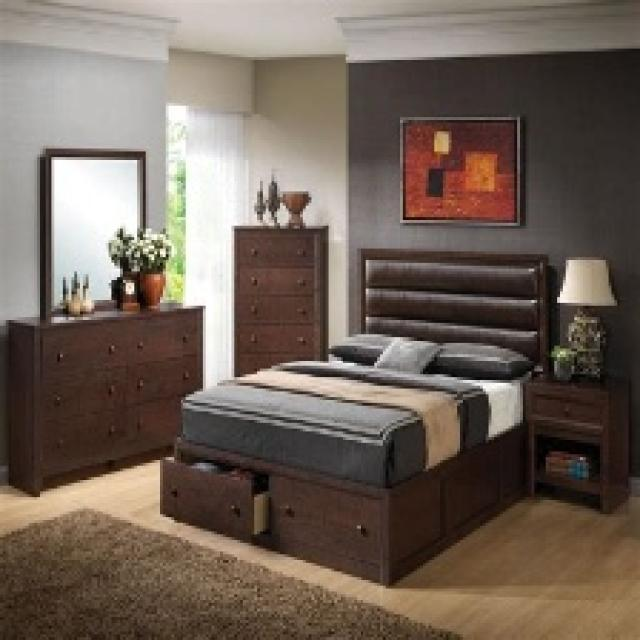Bed: (157, 245, 552, 586)
